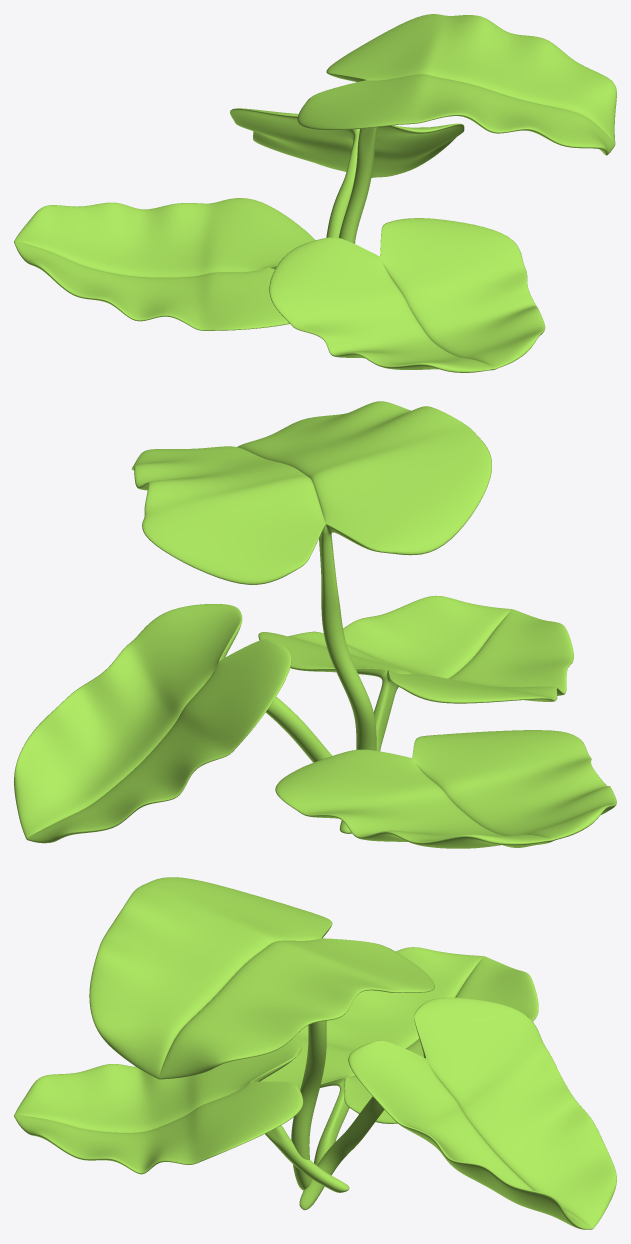
Rendered from pumpkin_plant1.fbx.
The picture shows the model from 3 angles, top to bottom: view 1: azimuth 30°, elevation 25°; view 2: azimuth 150°, elevation 25°; view 3: azimuth 270°, elevation 25°; orthographic projection. The views are drawn at different scales.
Visible parts, largest first — view 1: Plane.005; view 2: Plane.005; view 3: Plane.005.
Boxes of the visible parts, x1=… form: Plane.005: x1=14, y1=14, x2=616, y2=372; Plane.005: x1=14, y1=401, x2=616, y2=848; Plane.005: x1=14, y1=877, x2=616, y2=1229.
Bounding box in the file's own units: 137 × 80.51 × 139.
